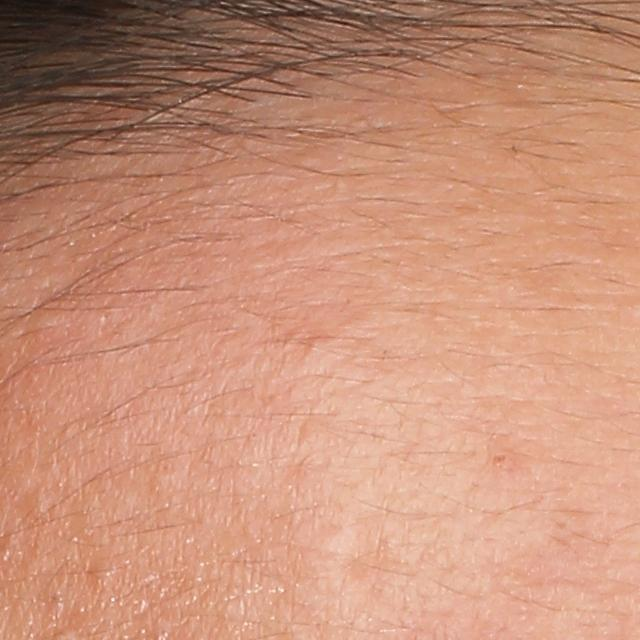comedo: (486, 445, 517, 478), (94, 563, 119, 584)
